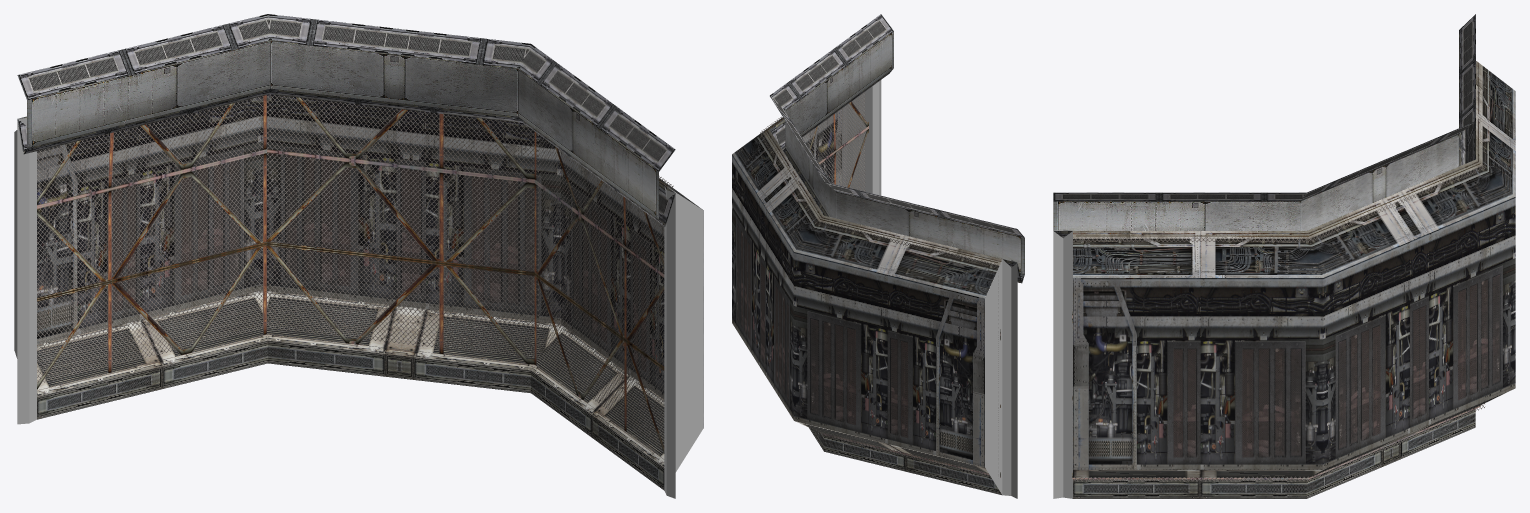
The model's file is Wall_E_Mid4mts_18.fbx.
3 views of the same model, side by side, from view 1: azimuth 30°, elevation 25°; view 2: azimuth 150°, elevation 25°; view 3: azimuth 270°, elevation 25° (orthographic). The views are drawn at different scales.
Parts seen in each view (by area): view 1: Wall_Framework, Metal Grid, Wall_E_Mid4mts_20; view 2: Wall_Framework, Metal Grid, Wall_E_Mid4mts_20; view 3: Wall_Framework, Metal Grid, Wall_E_Mid4mts_20.
Boxes of the visible parts, <box> form: Wall_Framework: <box>14,14,703,498</box>; Metal Grid: <box>37,94,673,449</box>; Wall_E_Mid4mts_20: <box>37,95,667,459</box>; Wall_Framework: <box>732,14,1024,498</box>; Metal Grid: <box>760,92,998,476</box>; Wall_E_Mid4mts_20: <box>765,101,1000,477</box>; Wall_Framework: <box>1053,14,1515,498</box>; Metal Grid: <box>1072,164,1485,481</box>; Wall_E_Mid4mts_20: <box>1072,163,1480,479</box>.
Bounding box in the file's own units: 547 × 400 × 547.
